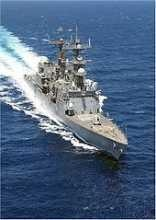warship: (26, 19, 133, 157)
